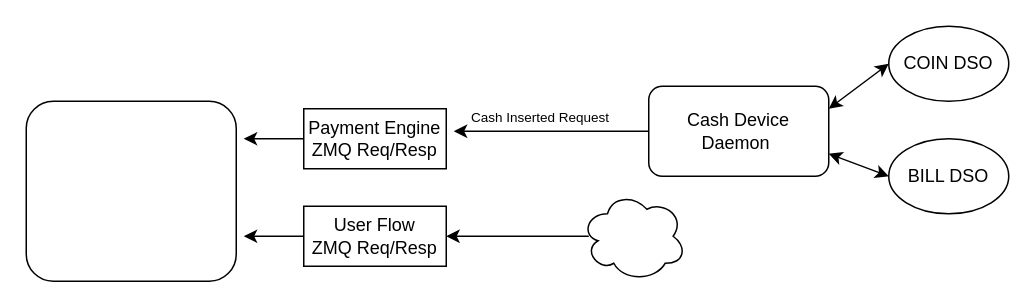
This 1035x308 diagram has some shape labels left out. Here are the shapes that lost their labels. From the top down, the centre of each, then its label:
At (130,190): "kiosk Daemon".
At (633,235): "Key events".
